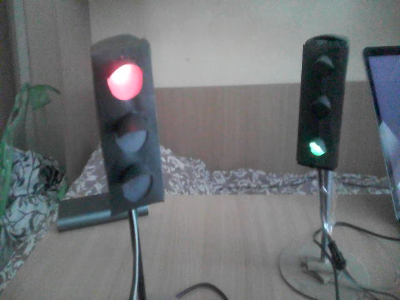trafficlight_green: (296, 44, 346, 165)
trafficlight_red: (94, 49, 164, 203)
